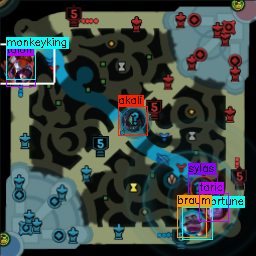akali: (120, 107, 145, 132)
braum: (178, 209, 203, 234)
missfortune: (186, 211, 210, 235)
monkeyking: (8, 49, 33, 76)
sylas: (190, 174, 215, 201)
talon: (9, 59, 31, 82)
taric: (202, 194, 228, 220)
